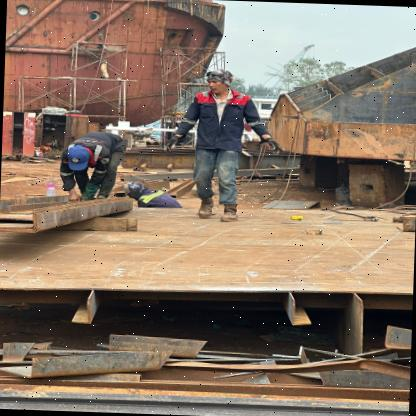bota: (218, 202, 240, 222), (197, 197, 214, 221)
